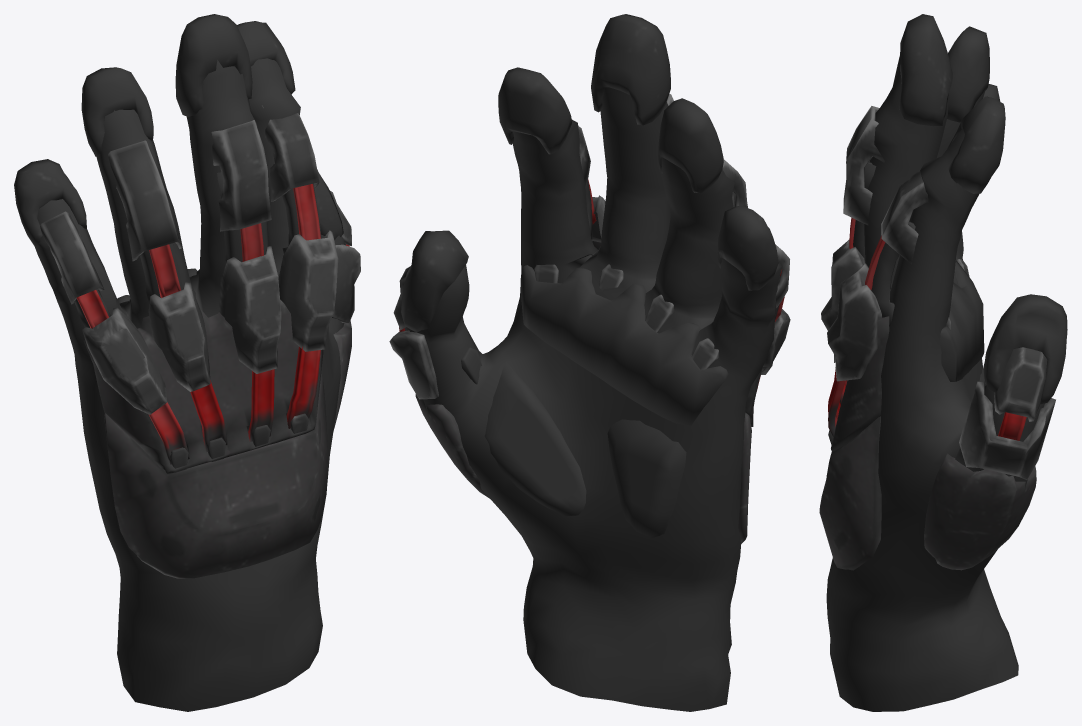
The model's file is leftHand.obj.
The picture shows the model from 3 angles, left to right: view 1: azimuth 30°, elevation 25°; view 2: azimuth 150°, elevation 25°; view 3: azimuth 270°, elevation 25°; orthographic projection. The views are drawn at different scales.
Parts seen in each view (by area): view 1: desirefx_me_8_mesh0_mesh0000_007.096; view 2: desirefx_me_8_mesh0_mesh0000_007.096; view 3: desirefx_me_8_mesh0_mesh0000_007.096.
Part boxes in pixels (left/top/right/bottom): desirefx_me_8_mesh0_mesh0000_007.096: left=14, top=14, right=360, bottom=711; desirefx_me_8_mesh0_mesh0000_007.096: left=389, top=14, right=790, bottom=711; desirefx_me_8_mesh0_mesh0000_007.096: left=819, top=14, right=1067, bottom=711.
Size of the model in its own units: 0.0783 by 0.141 by 0.0471.
